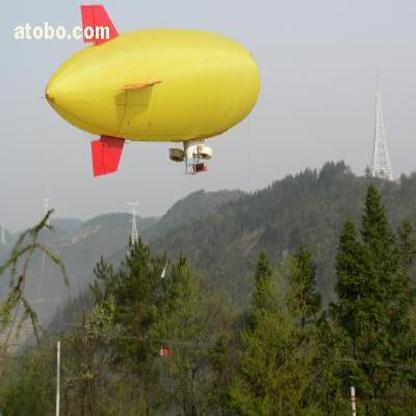Airship: (43, 4, 269, 181)
